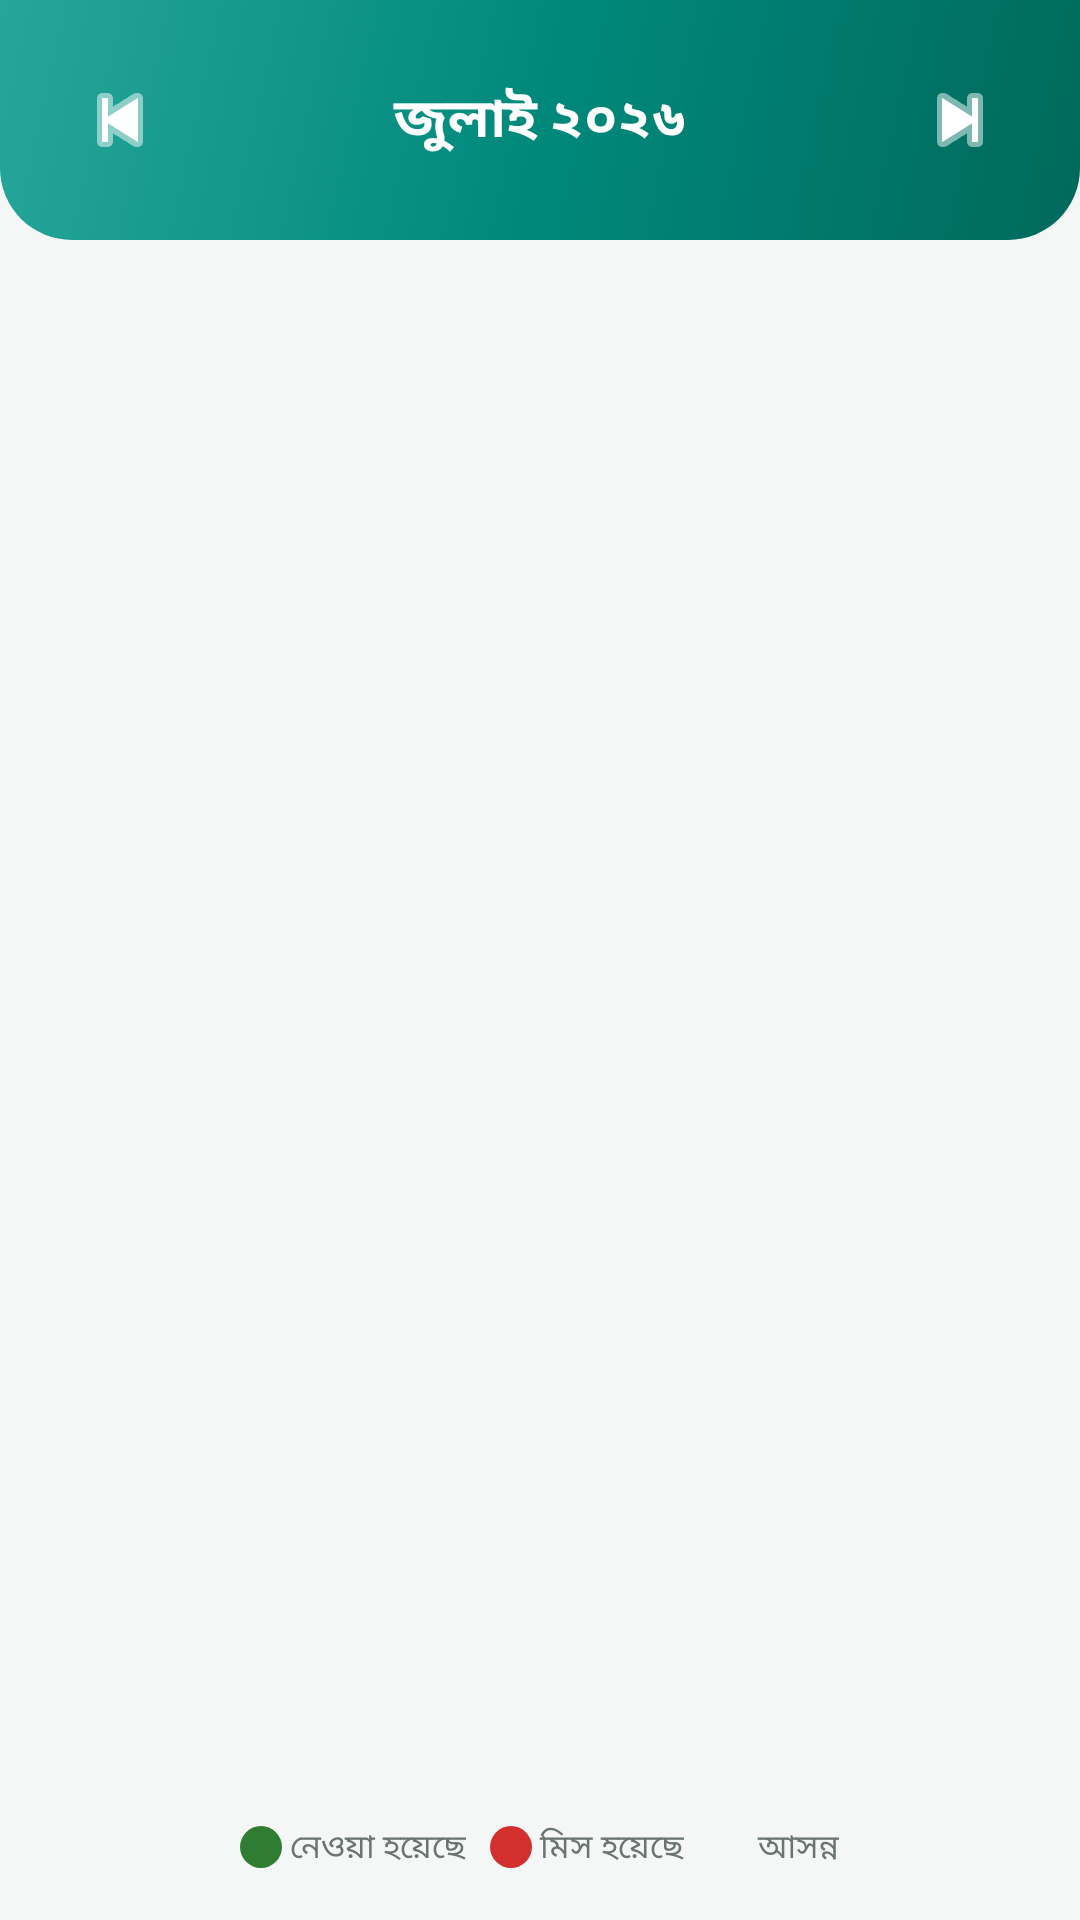

Named icons in this screenshot (1080*1920) and their centers, (x,y):
next: (960,120)
previous: (120,120)
